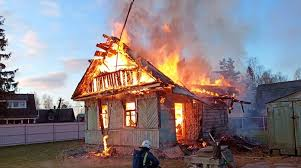fire: (81, 35, 203, 99)
